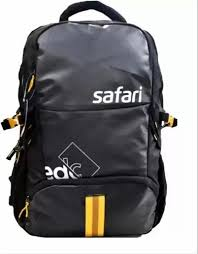backpack: (0, 0, 177, 237)
